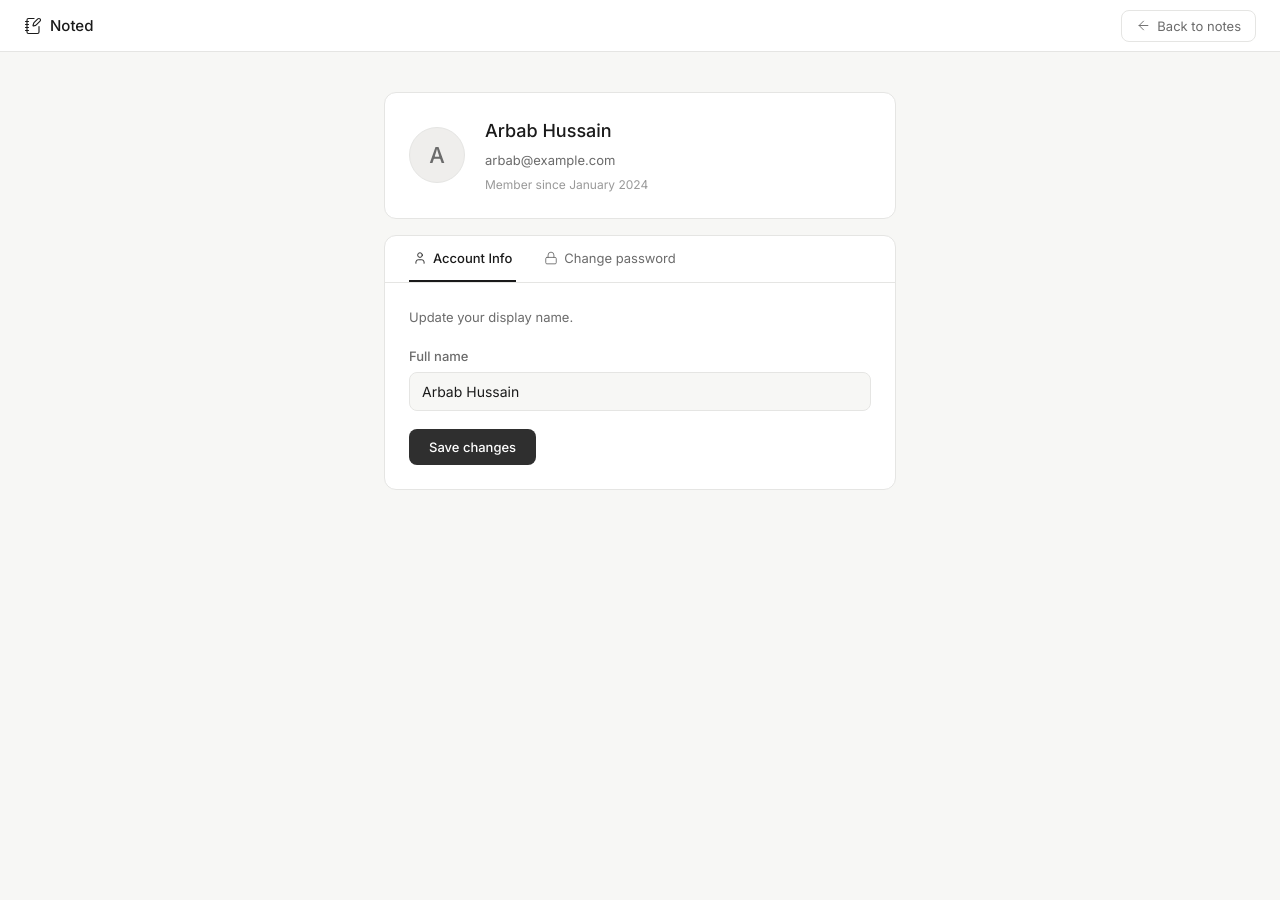
Test case: Profile Page › should show error when new password is too short
Expected: the heading "Arbab Hussain" is shown, [485,120,612,141]
Step 1. Click the button "Change password" → (610,259), box [540,236,680,282]
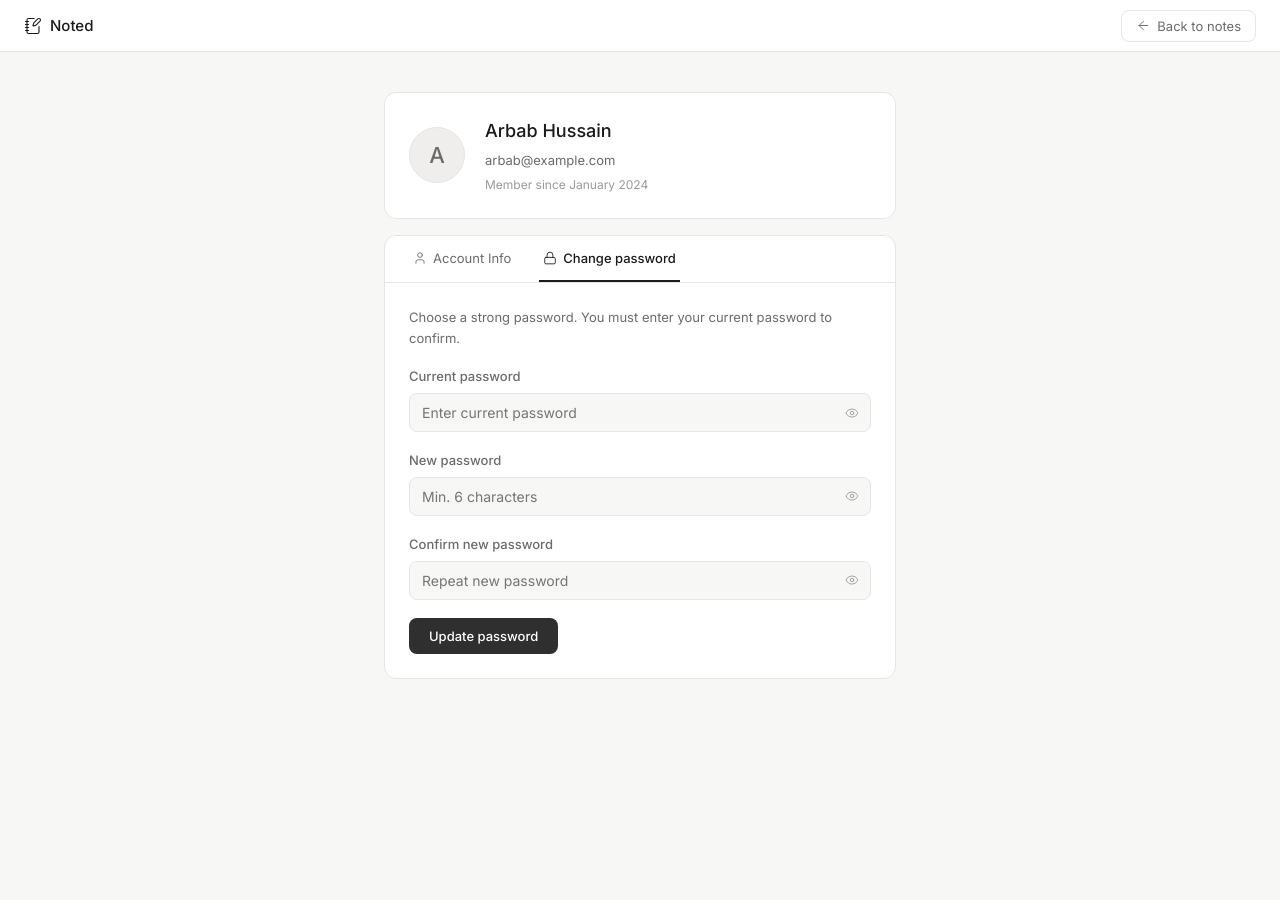
Step 2. Type "oldpassword" into the password field with placeholder "Enter current password" → (640,413), box [409,393,871,432]
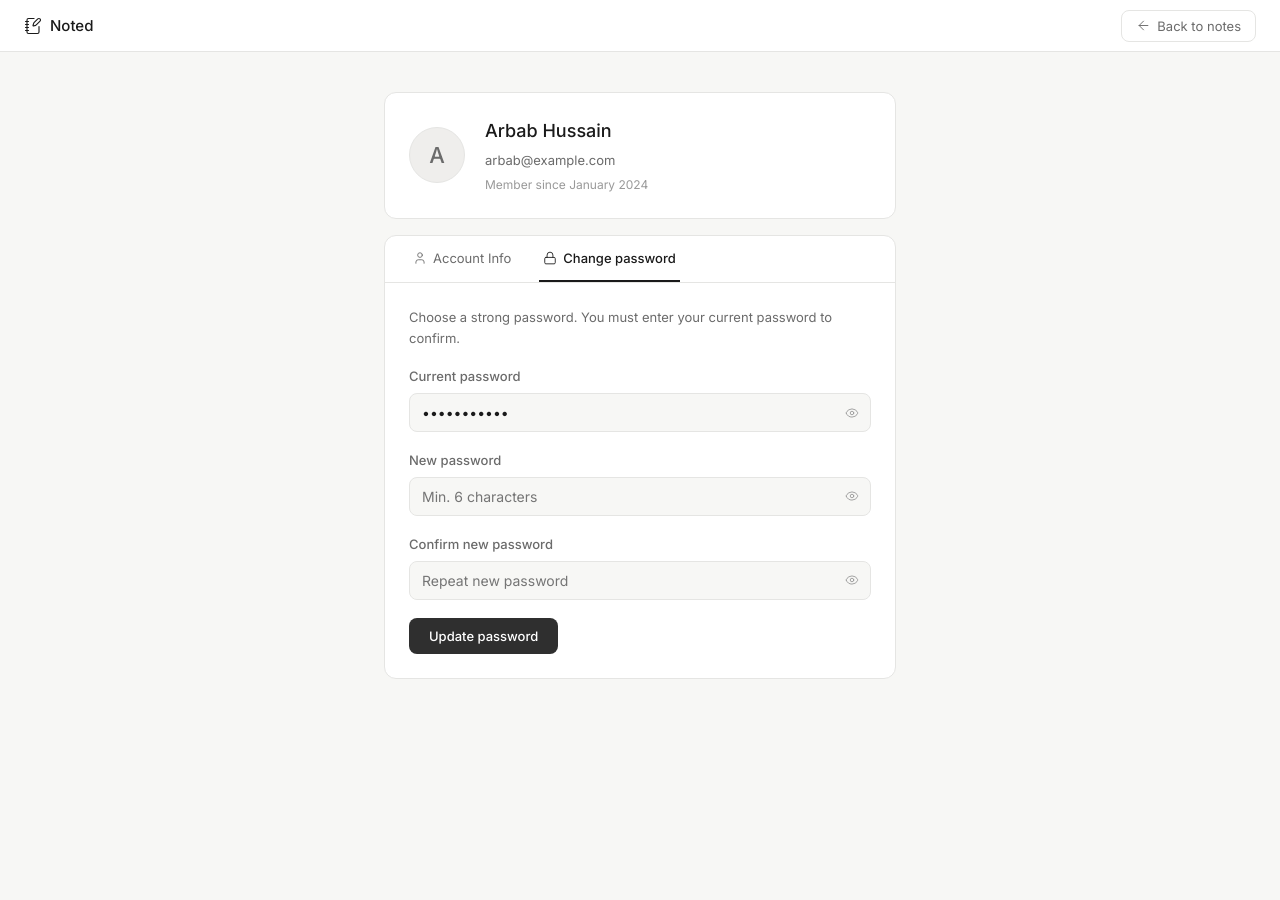
Step 3. Type "123" into the password field with placeholder "Min. 6 characters" → (640,496), box [409,477,871,516]
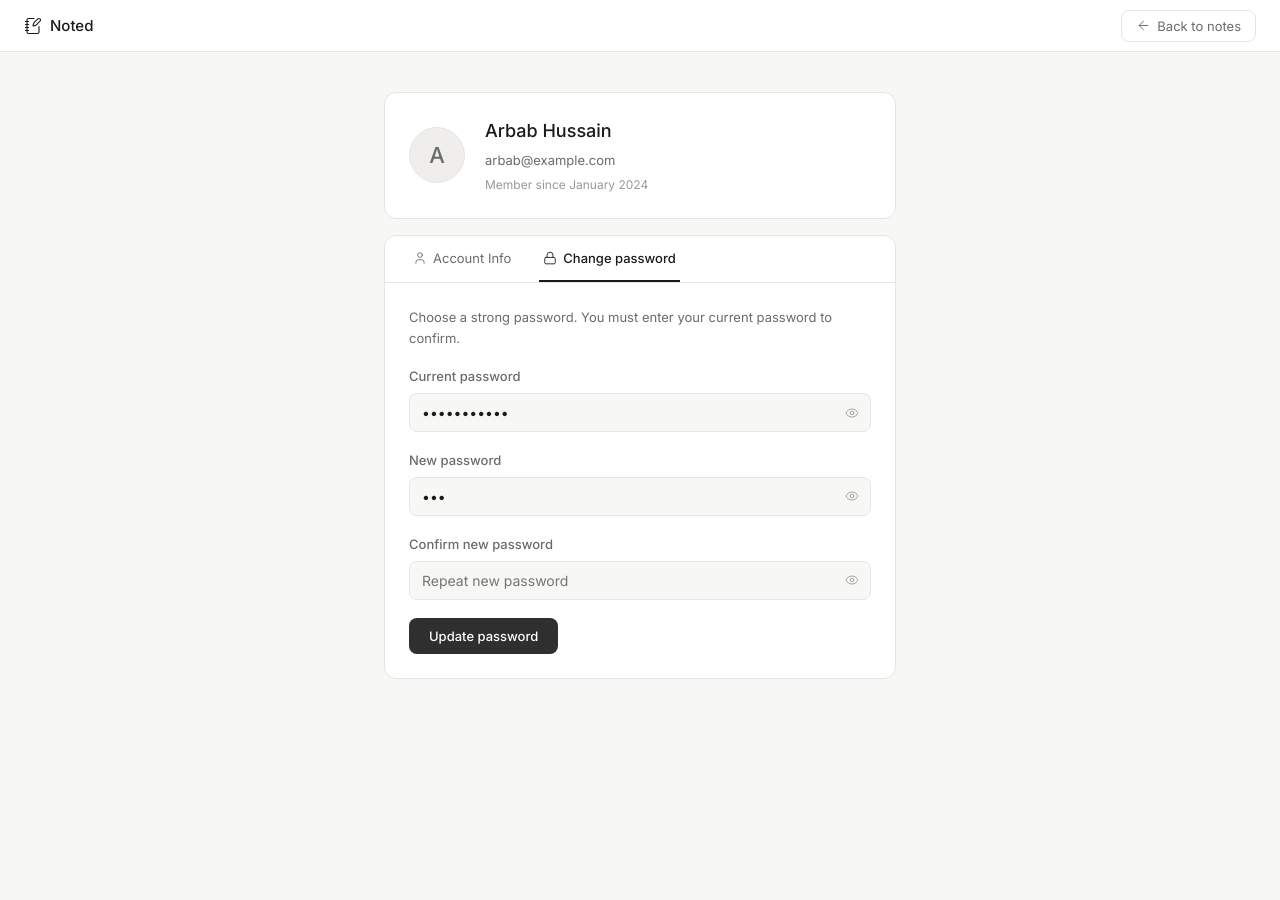
Step 4. Type "123" into the password field with placeholder "Repeat new password" → (640,580), box [409,561,871,600]
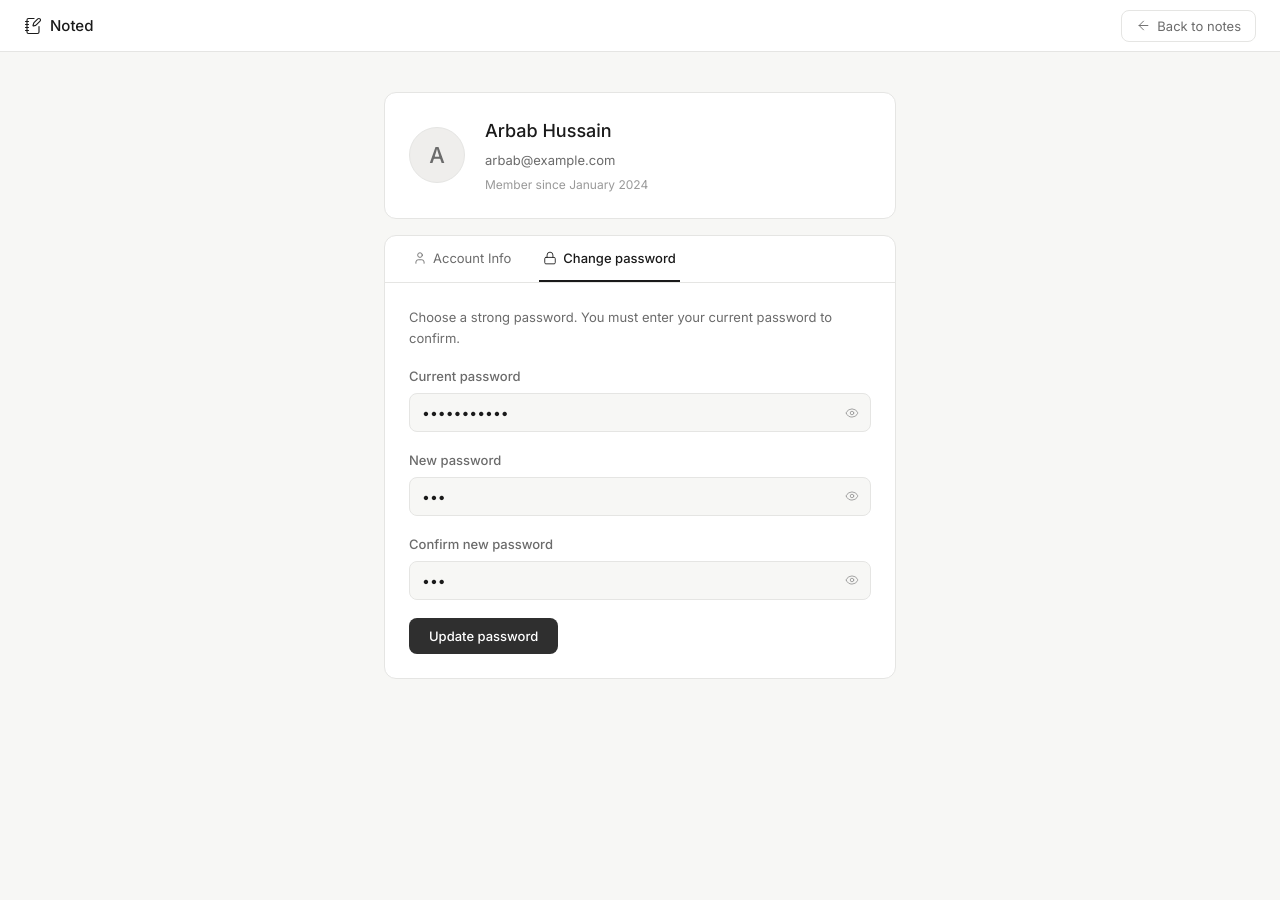
Step 5. Click the button "Update password" → (484,636), box [409,618,558,654]
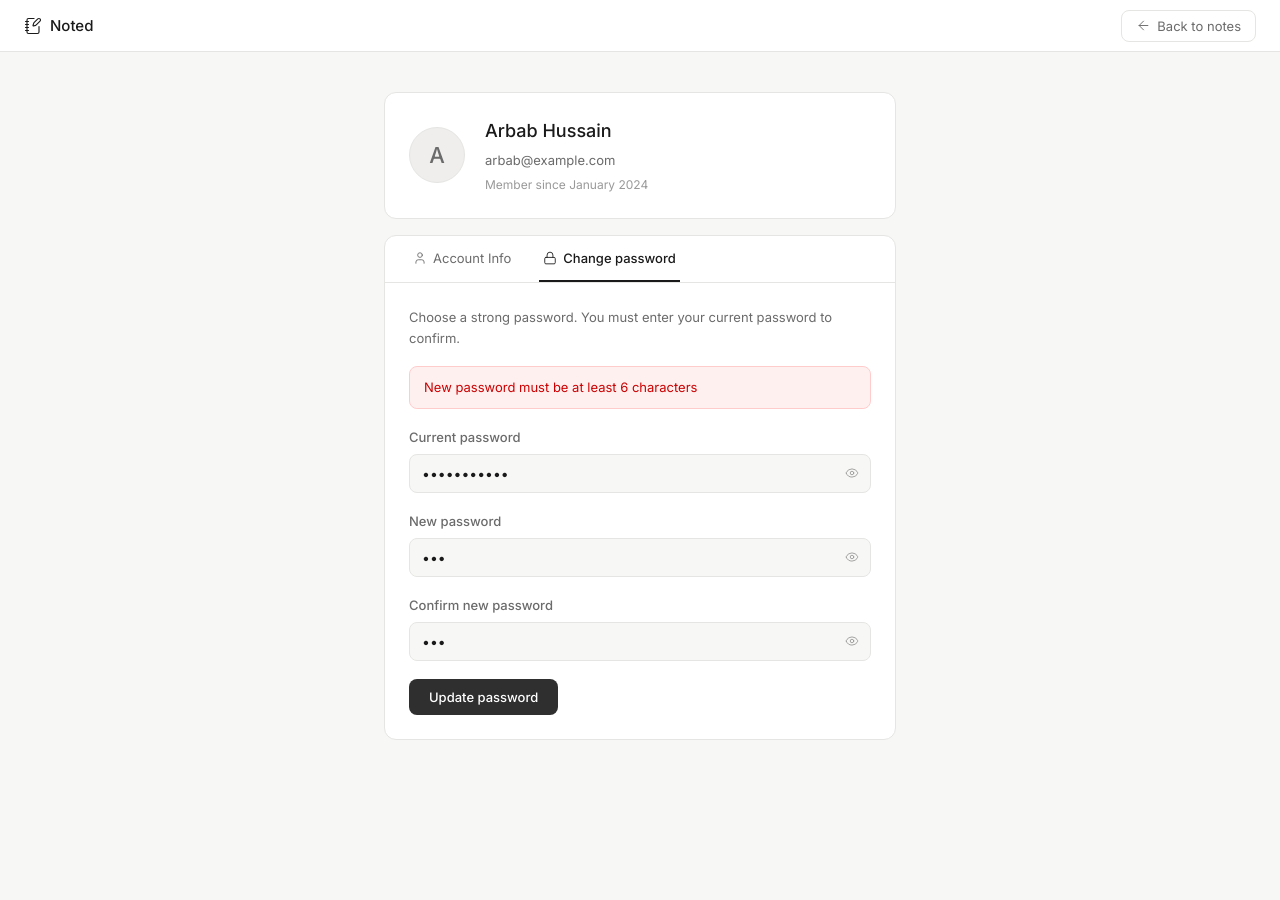
Now the text "New password must be at least 6 characters" is shown, box [409,366,871,409]
